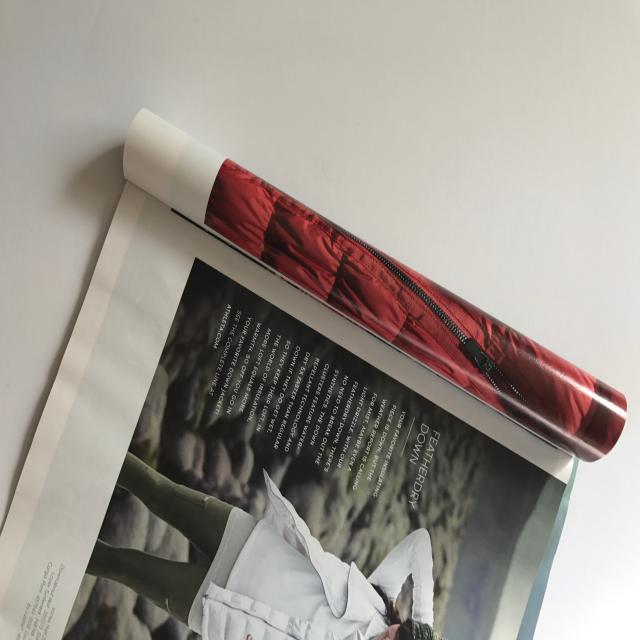paper: (1, 106, 626, 640)
